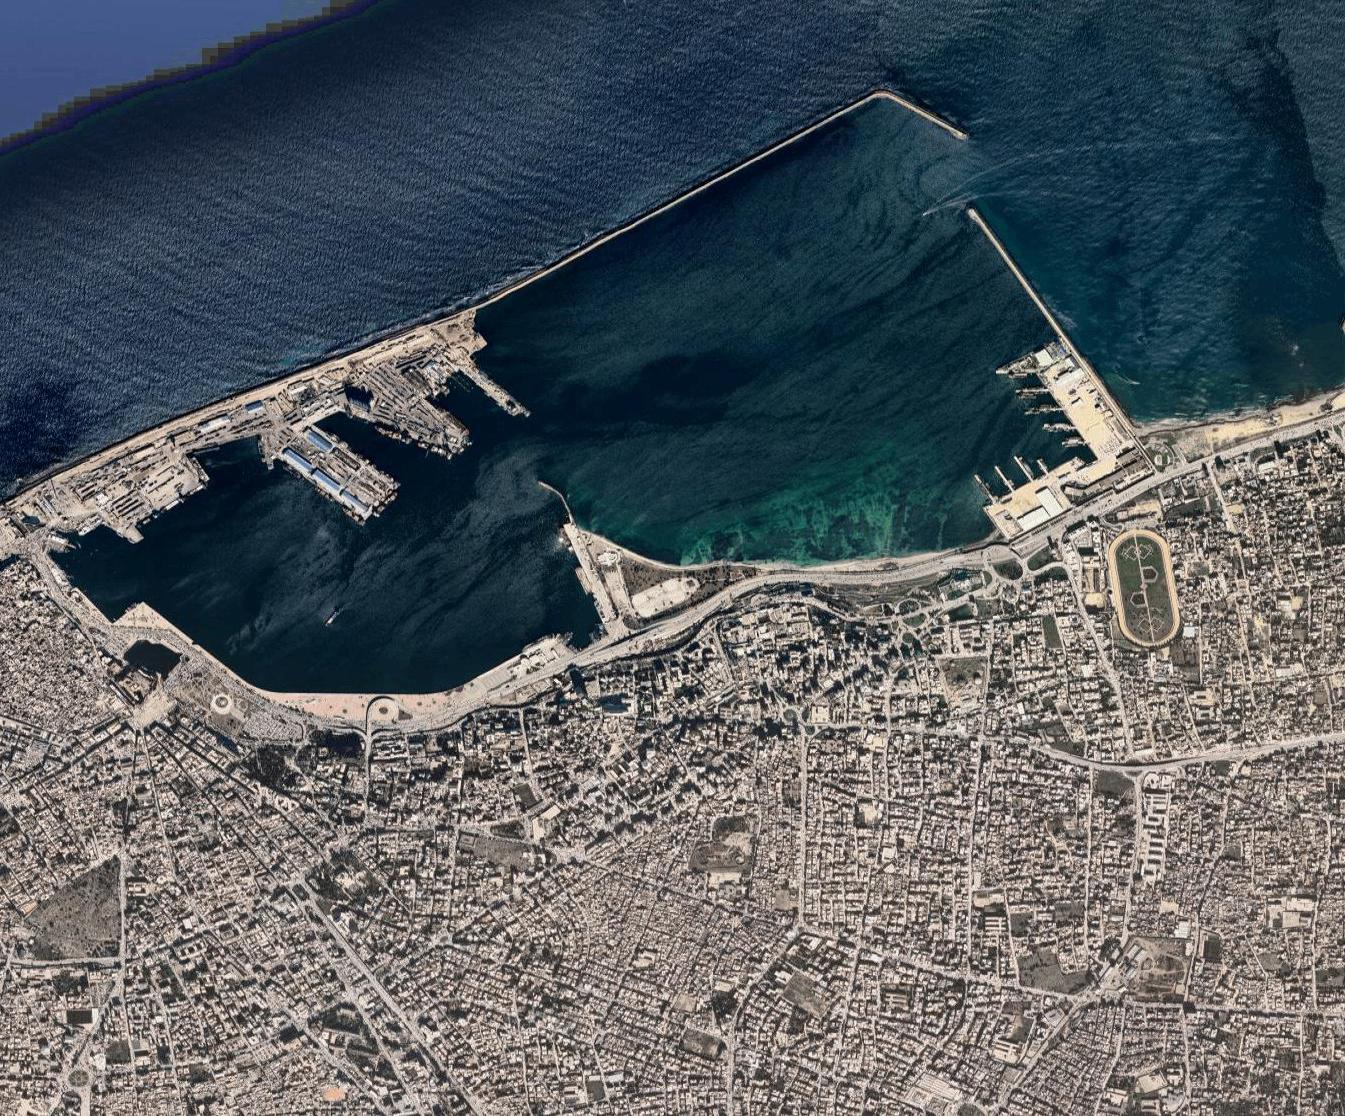harbor: (21, 77, 1112, 703)
